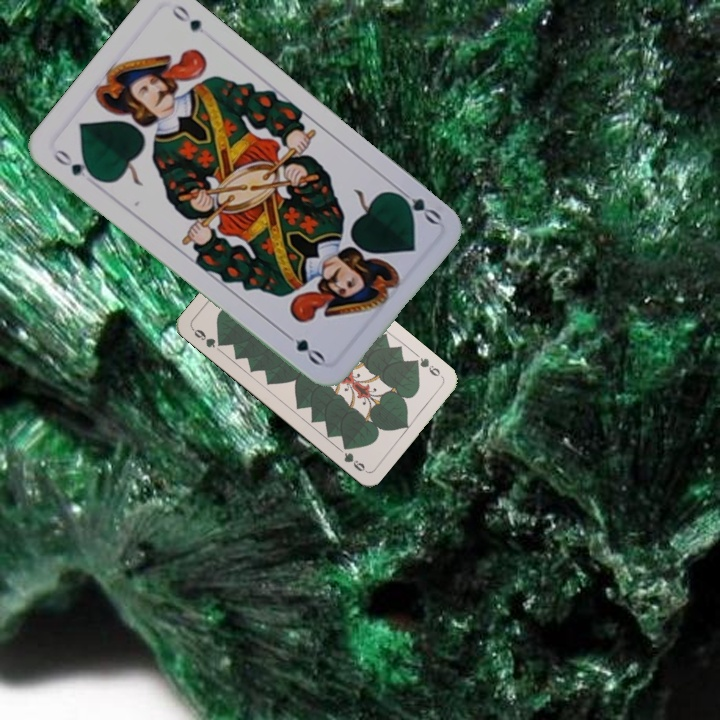G9: (188, 324, 226, 351), (408, 353, 445, 380)
GO: (389, 182, 444, 227), (49, 144, 101, 183)
